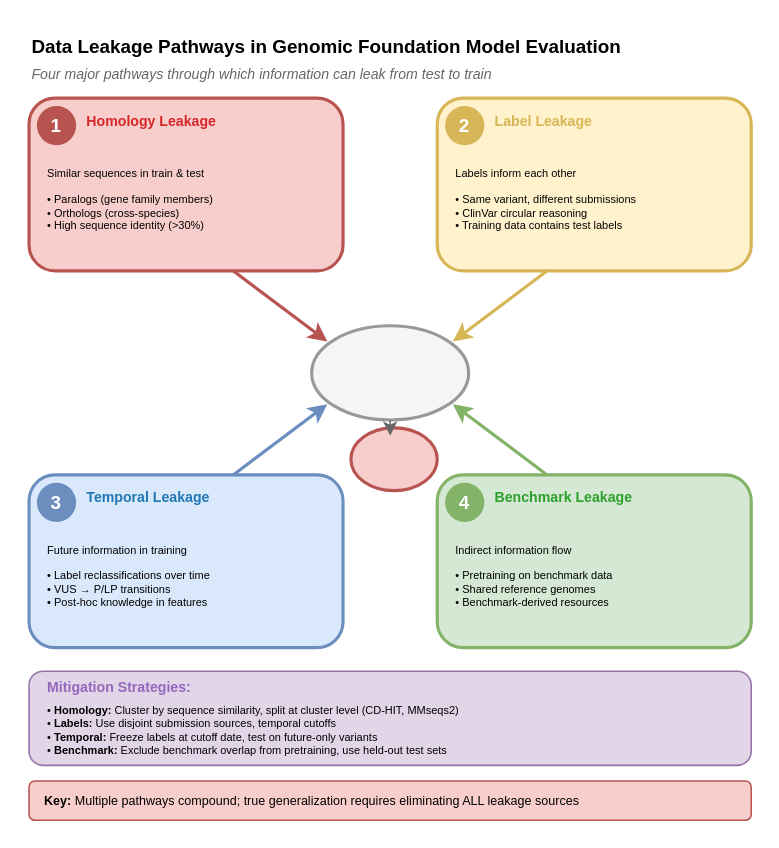
Image size: 779x848. Some labels were removed from this diagram. Here are the shapes that lost their labels. From the top down, the centre of each, then its label:
point (389, 372): Model Evaluation
point (393, 458): ⚠ Inflated Metrics
